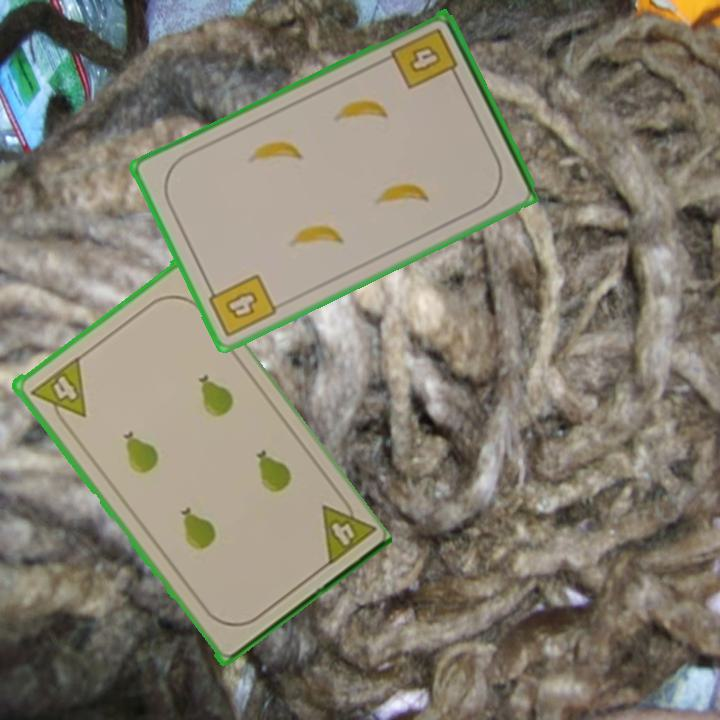4b: (203, 270, 280, 341), (387, 24, 462, 93)
4p: (317, 489, 377, 570), (26, 354, 89, 431)
